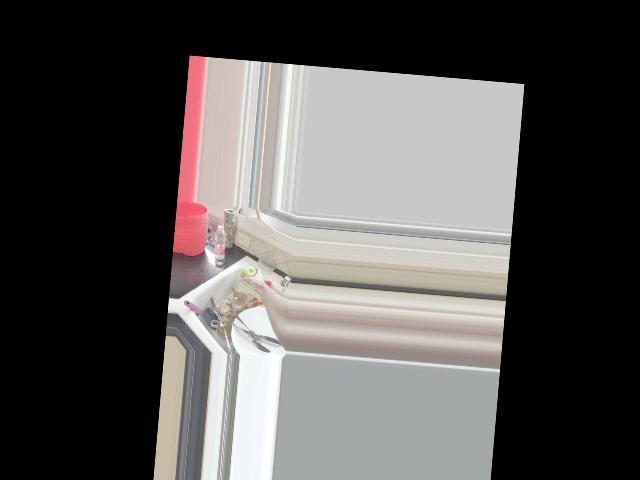apple: (241, 264, 257, 283)
